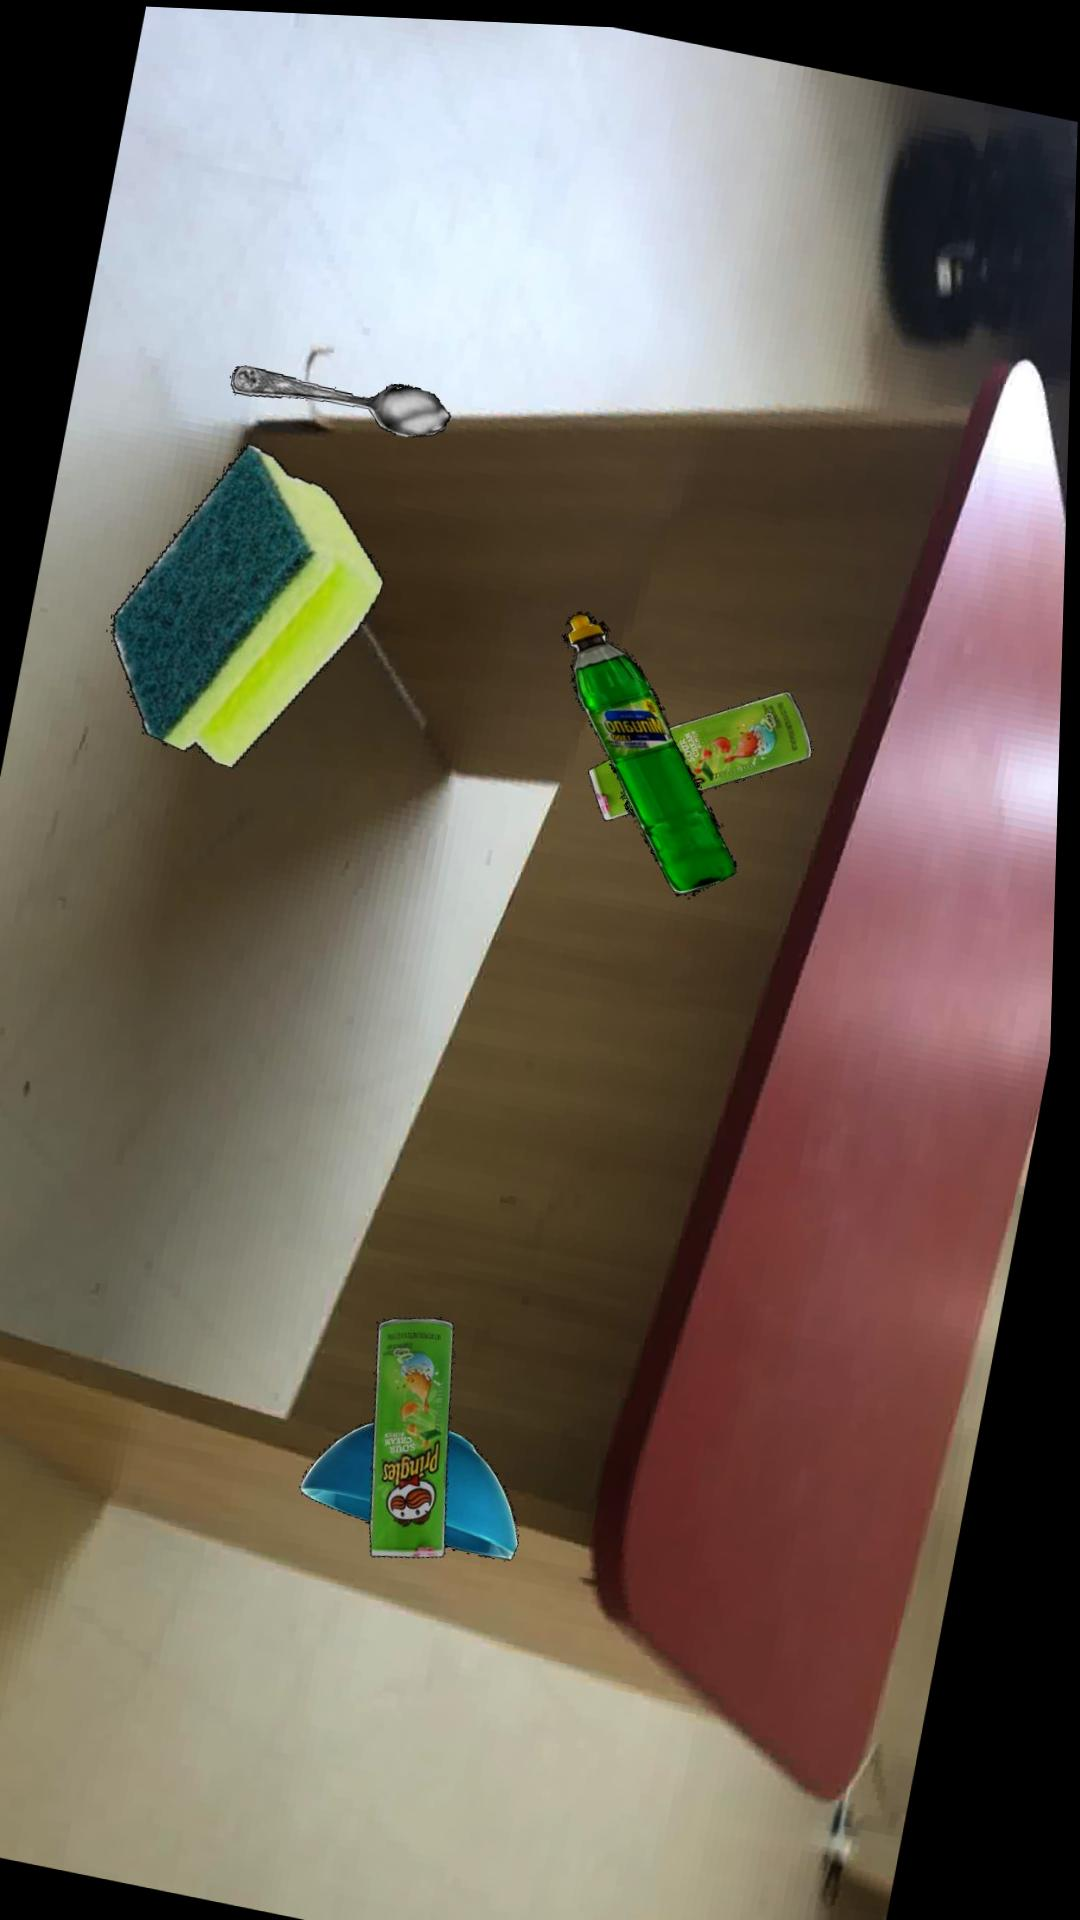bowl: (307, 1416, 526, 1553)
cleaner: (564, 604, 740, 887)
pringles: (591, 680, 815, 814), (377, 1311, 460, 1551)
sponge: (112, 439, 386, 764)
spoon: (231, 361, 452, 431)
